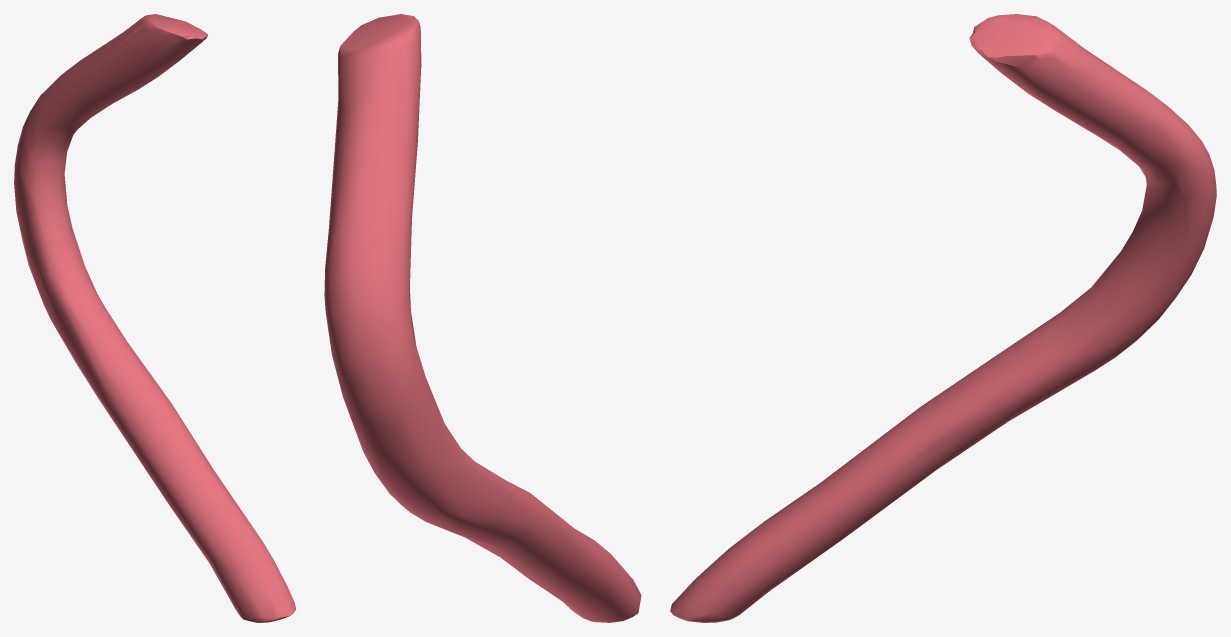
File: fma18885_fj3568.glb
3 views of the same model, side by side, from view 1: azimuth 30°, elevation 25°; view 2: azimuth 150°, elevation 25°; view 3: azimuth 270°, elevation 25° (orthographic). The views are drawn at different scales.
Visible parts, largest first — view 1: FMA18885_FJ3568; view 2: FMA18885_FJ3568; view 3: FMA18885_FJ3568.
Boxes of the visible parts, <box> form: FMA18885_FJ3568: <box>14,14,295,622</box>; FMA18885_FJ3568: <box>324,14,641,622</box>; FMA18885_FJ3568: <box>670,14,1216,622</box>.
Size of the model in its own units: 0.0273 by 0.1099 by 0.0891.
